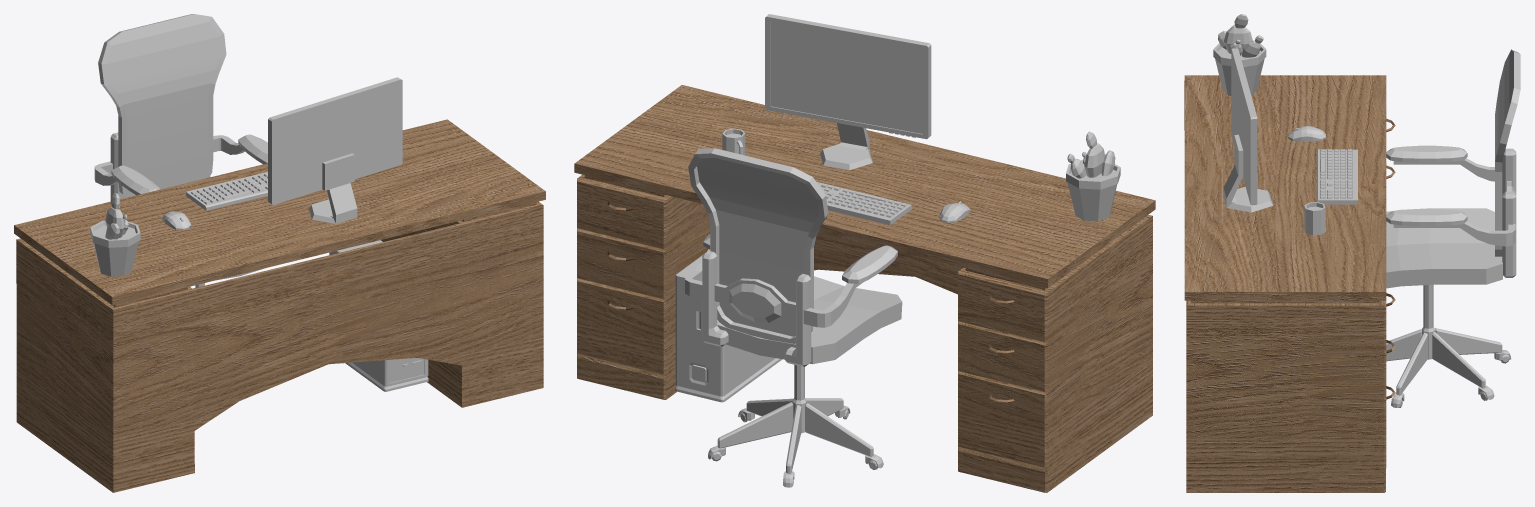
Rendered from Desk2.fbx.
The picture shows the model from 3 angles, left to right: view 1: azimuth 30°, elevation 25°; view 2: azimuth 150°, elevation 25°; view 3: azimuth 270°, elevation 25°; orthographic projection. The views are drawn at different scales.
Visible parts, largest first — view 1: table_B__4_, Computer_chair__2_, computer_screen__4_, Little_cactus_2__1_, Computer__4_, Keyboard__4_; view 2: table_B__4_, Computer_chair__2_, computer_screen__4_, Computer__4_, Little_cactus_2__1_, Keyboard__4_; view 3: table_B__4_, Computer_chair__2_, computer_screen__4_, Little_cactus_2__1_, Keyboard__4_, Coffee_cup__1_, computer_mouse__4_.
Boxes of the visible parts, box(x1,y1,x2,y2) form: table_B__4_: box(14, 119, 545, 492); Computer_chair__2_: box(94, 14, 267, 287); computer_screen__4_: box(268, 77, 402, 223); Little_cactus_2__1_: box(90, 193, 140, 276); Computer__4_: box(329, 240, 428, 391); Keyboard__4_: box(186, 172, 267, 210); table_B__4_: box(574, 85, 1155, 492); Computer_chair__2_: box(685, 148, 902, 487); computer_screen__4_: box(765, 14, 931, 170); Computer__4_: box(675, 254, 781, 402); Little_cactus_2__1_: box(1066, 131, 1120, 221); Keyboard__4_: box(816, 181, 912, 224); table_B__4_: box(1184, 75, 1395, 492); Computer_chair__2_: box(1386, 49, 1520, 407); computer_screen__4_: box(1223, 48, 1272, 212); Little_cactus_2__1_: box(1213, 14, 1266, 95); Keyboard__4_: box(1316, 149, 1357, 204); Coffee_cup__1_: box(1304, 202, 1325, 235); computer_mouse__4_: box(1288, 126, 1325, 141).
Size of the model in its own units: 199 by 137 by 130.
